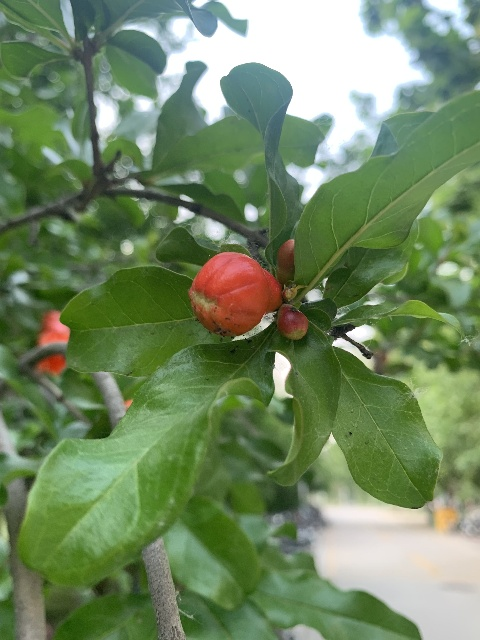bud: (188, 251, 282, 337), (277, 304, 308, 340), (276, 238, 294, 282)
